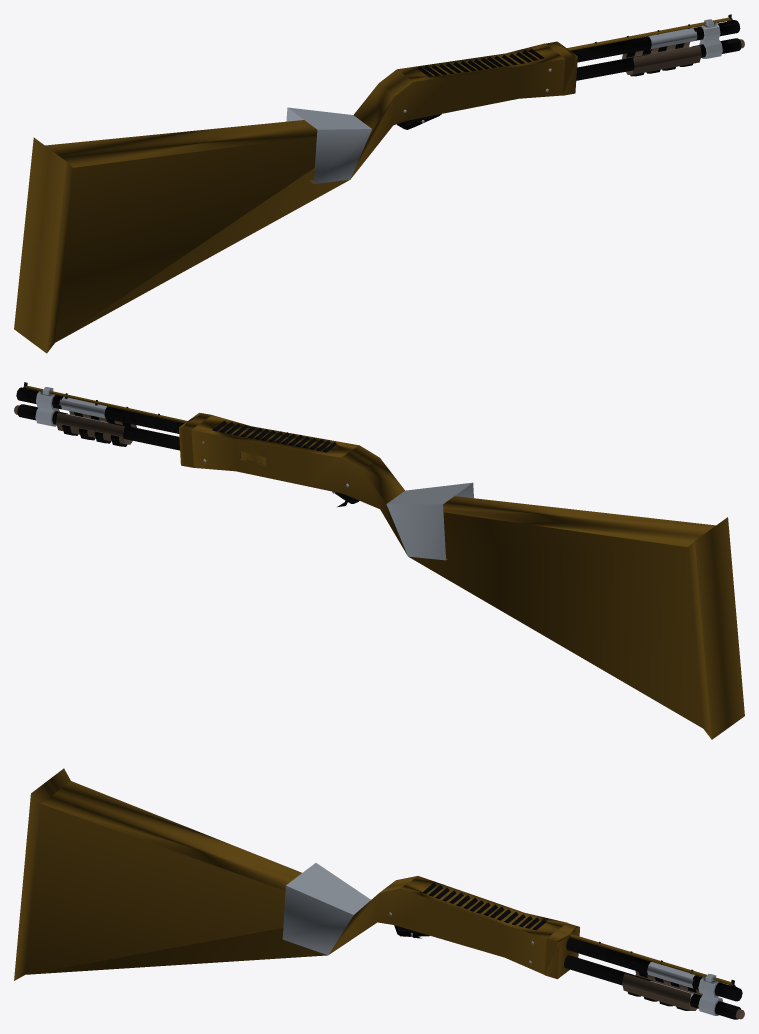
File: Gun2.fbx
3 renders of one model, top to bottom at view 1: azimuth 30°, elevation 25°; view 2: azimuth 150°, elevation 25°; view 3: azimuth 330°, elevation 25°, orthographic. The views are drawn at different scales.
Parts seen in each view (by area): view 1: Cube; view 2: Cube; view 3: Cube.
Part boxes in pixels (x1,y1,x2,y2): Cube: [14, 14, 744, 353]; Cube: [14, 382, 744, 739]; Cube: [14, 768, 744, 1019].
Bounding box in the file's own units: 3119 × 801 × 270.
